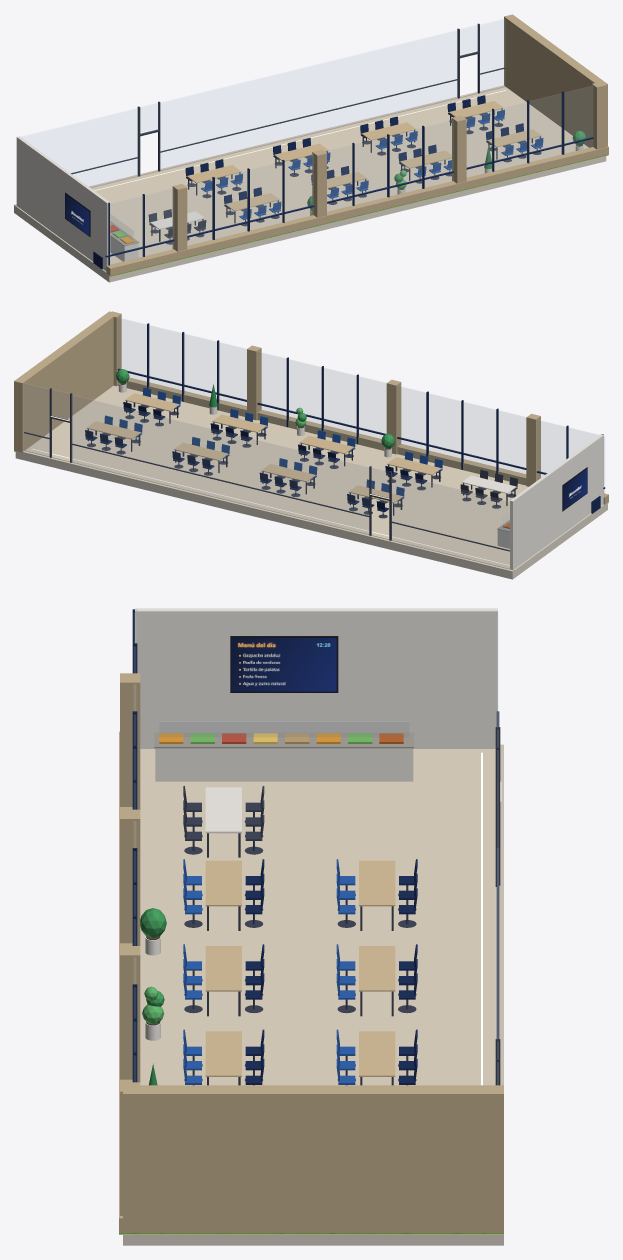
Rendered from comedor.glb.
The picture shows the model from 3 angles, top to bottom: view 1: azimuth 30°, elevation 25°; view 2: azimuth 150°, elevation 25°; view 3: azimuth 270°, elevation 25°; orthographic projection. The views are drawn at different scales.
Visible parts, largest first — view 1: vidrio-cfe6ff, vidrio-cfe0ea, mate-e7dac6, mate-cdb894, mate-f7f4ee, brillo-cdb894, mate-e8e2d6, metal-3a4256, brillo-dcc39c, metal-14285a, brillo-2a62b8, brillo-14285a (+6 smaller); view 2: vidrio-cfe6ff, mate-e7dac6, vidrio-cfe0ea, mate-cdb894, mate-f7f4ee, mate-e8e2d6, metal-3a4256, brillo-dcc39c, brillo-cdb894, metal-14285a, brillo-14285a, brillo-2a62b8 (+6 smaller); view 3: mate-e7dac6, mate-cdb894, mate-f7f4ee, brillo-f7f4ee, brillo-dcc39c, MeshBasicMaterial-tex, vidrio-cfe6ff, metal-3a4256, mate-e8e2d6, brillo-14285a, brillo-2a62b8, metal-a7a49c (+4 smaller).
Part boxes in pixels (<box>): vidrio-cfe6ff: <box>22,19,504,239</box>; vidrio-cfe0ea: <box>106,86,592,265</box>; mate-e7dac6: <box>91,87,588,264</box>; mate-cdb894: <box>172,14,607,251</box>; mate-f7f4ee: <box>16,136,110,270</box>; brillo-cdb894: <box>106,146,608,275</box>; mate-e8e2d6: <box>14,156,606,282</box>; metal-3a4256: <box>71,23,541,244</box>; brillo-dcc39c: <box>187,101,541,211</box>; metal-14285a: <box>105,91,593,265</box>; brillo-2a62b8: <box>201,109,543,219</box>; brillo-14285a: <box>185,95,523,208</box>; vidrio-cfe6ff: <box>24,383,509,568</box>; mate-e7dac6: <box>25,385,528,569</box>; vidrio-cfe0ea: <box>118,318,604,503</box>; mate-cdb894: <box>14,311,540,486</box>; mate-f7f4ee: <box>510,434,603,570</box>; mate-e8e2d6: <box>15,451,607,579</box>; metal-3a4256: <box>24,388,516,551</box>; brillo-dcc39c: <box>86,393,441,503</box>; brillo-cdb894: <box>118,377,608,504</box>; metal-14285a: <box>117,323,605,488</box>; brillo-14285a: <box>85,402,427,512</box>; brillo-2a62b8: <box>104,387,442,500</box>; mate-e7dac6: <box>140,749,495,1085</box>; mate-cdb894: <box>120,673,503,1232</box>; mate-f7f4ee: <box>135,608,497,748</box>; brillo-f7f4ee: <box>145,748,413,1040</box>; brillo-dcc39c: <box>205,860,395,1076</box>; MeshBasicMaterial-tex: <box>231,638,336,691</box>; vidrio-cfe6ff: <box>160,614,498,1084</box>; metal-3a4256: <box>184,711,500,1085</box>; mate-e8e2d6: <box>123,887,503,1245</box>; brillo-14285a: <box>245,859,417,1084</box>; brillo-2a62b8: <box>183,859,355,1084</box>; metal-a7a49c: <box>154,732,413,748</box>.
Bounding box in the file's own units: 28.55 × 4.2 × 9.55.
35 materials, 3 textured.
